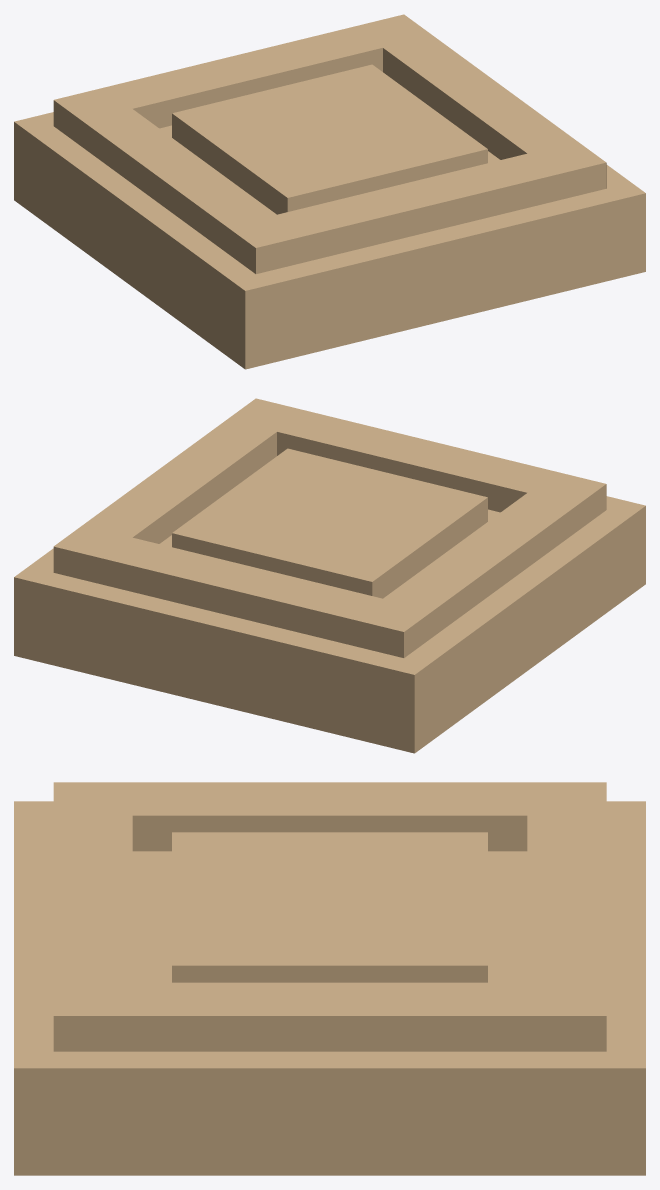
The model's file is man-v1-tan.gltf.
The picture shows the model from 3 angles, top to bottom: view 1: azimuth 30°, elevation 25°; view 2: azimuth 150°, elevation 25°; view 3: azimuth 270°, elevation 25°; orthographic projection. The views are drawn at different scales.
Visible parts, largest first — view 1: Untitled; view 2: Untitled; view 3: Untitled.
Part boxes in pixels (x1,y1,x2,y2): Untitled: [14, 14, 645, 369]; Untitled: [14, 398, 645, 753]; Untitled: [14, 782, 645, 1175].
Bounding box in the file's own units: 1.6 × 0.4 × 1.6.
Materials: 1 (1 with a texture image).
